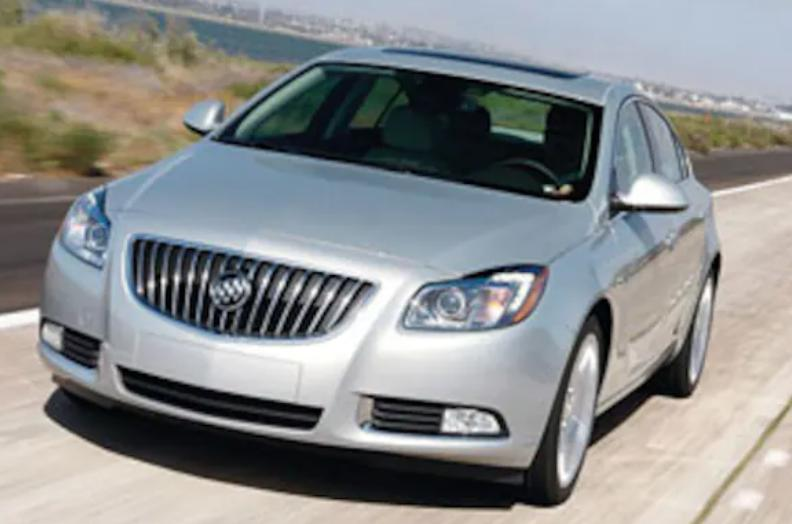car: (29, 29, 750, 506)
